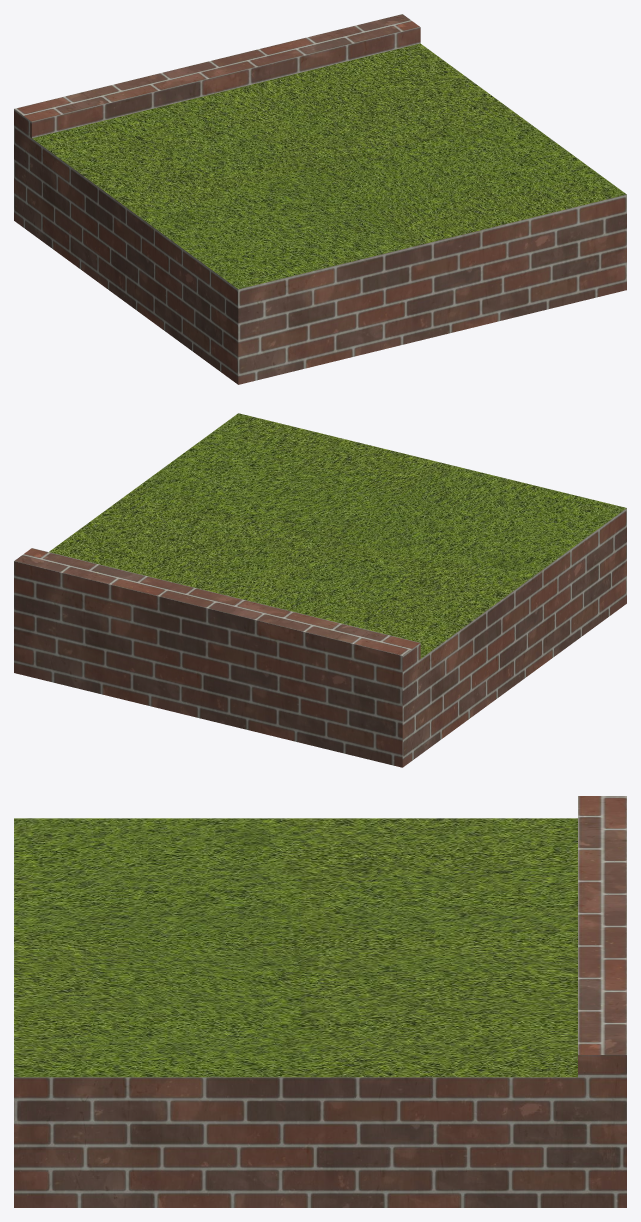
Rendered from grass_edge_full.dae.
The picture shows the model from 3 angles, top to bottom: view 1: azimuth 30°, elevation 25°; view 2: azimuth 150°, elevation 25°; view 3: azimuth 270°, elevation 25°; orthographic projection. The views are drawn at different scales.
Parts seen in each view (by area): view 1: group_0 (×2); view 2: group_0 (×2); view 3: group_0 (×2).
Part boxes in pixels (x1,y1,x2,y2): group_0 (×2): [14, 14, 626, 384]; group_0 (×2): [14, 413, 626, 767]; group_0 (×2): [14, 796, 626, 1207].
Bounding box in the file's own units: 39.37 × 39.37 × 10.83.
2 materials, 2 textured.
